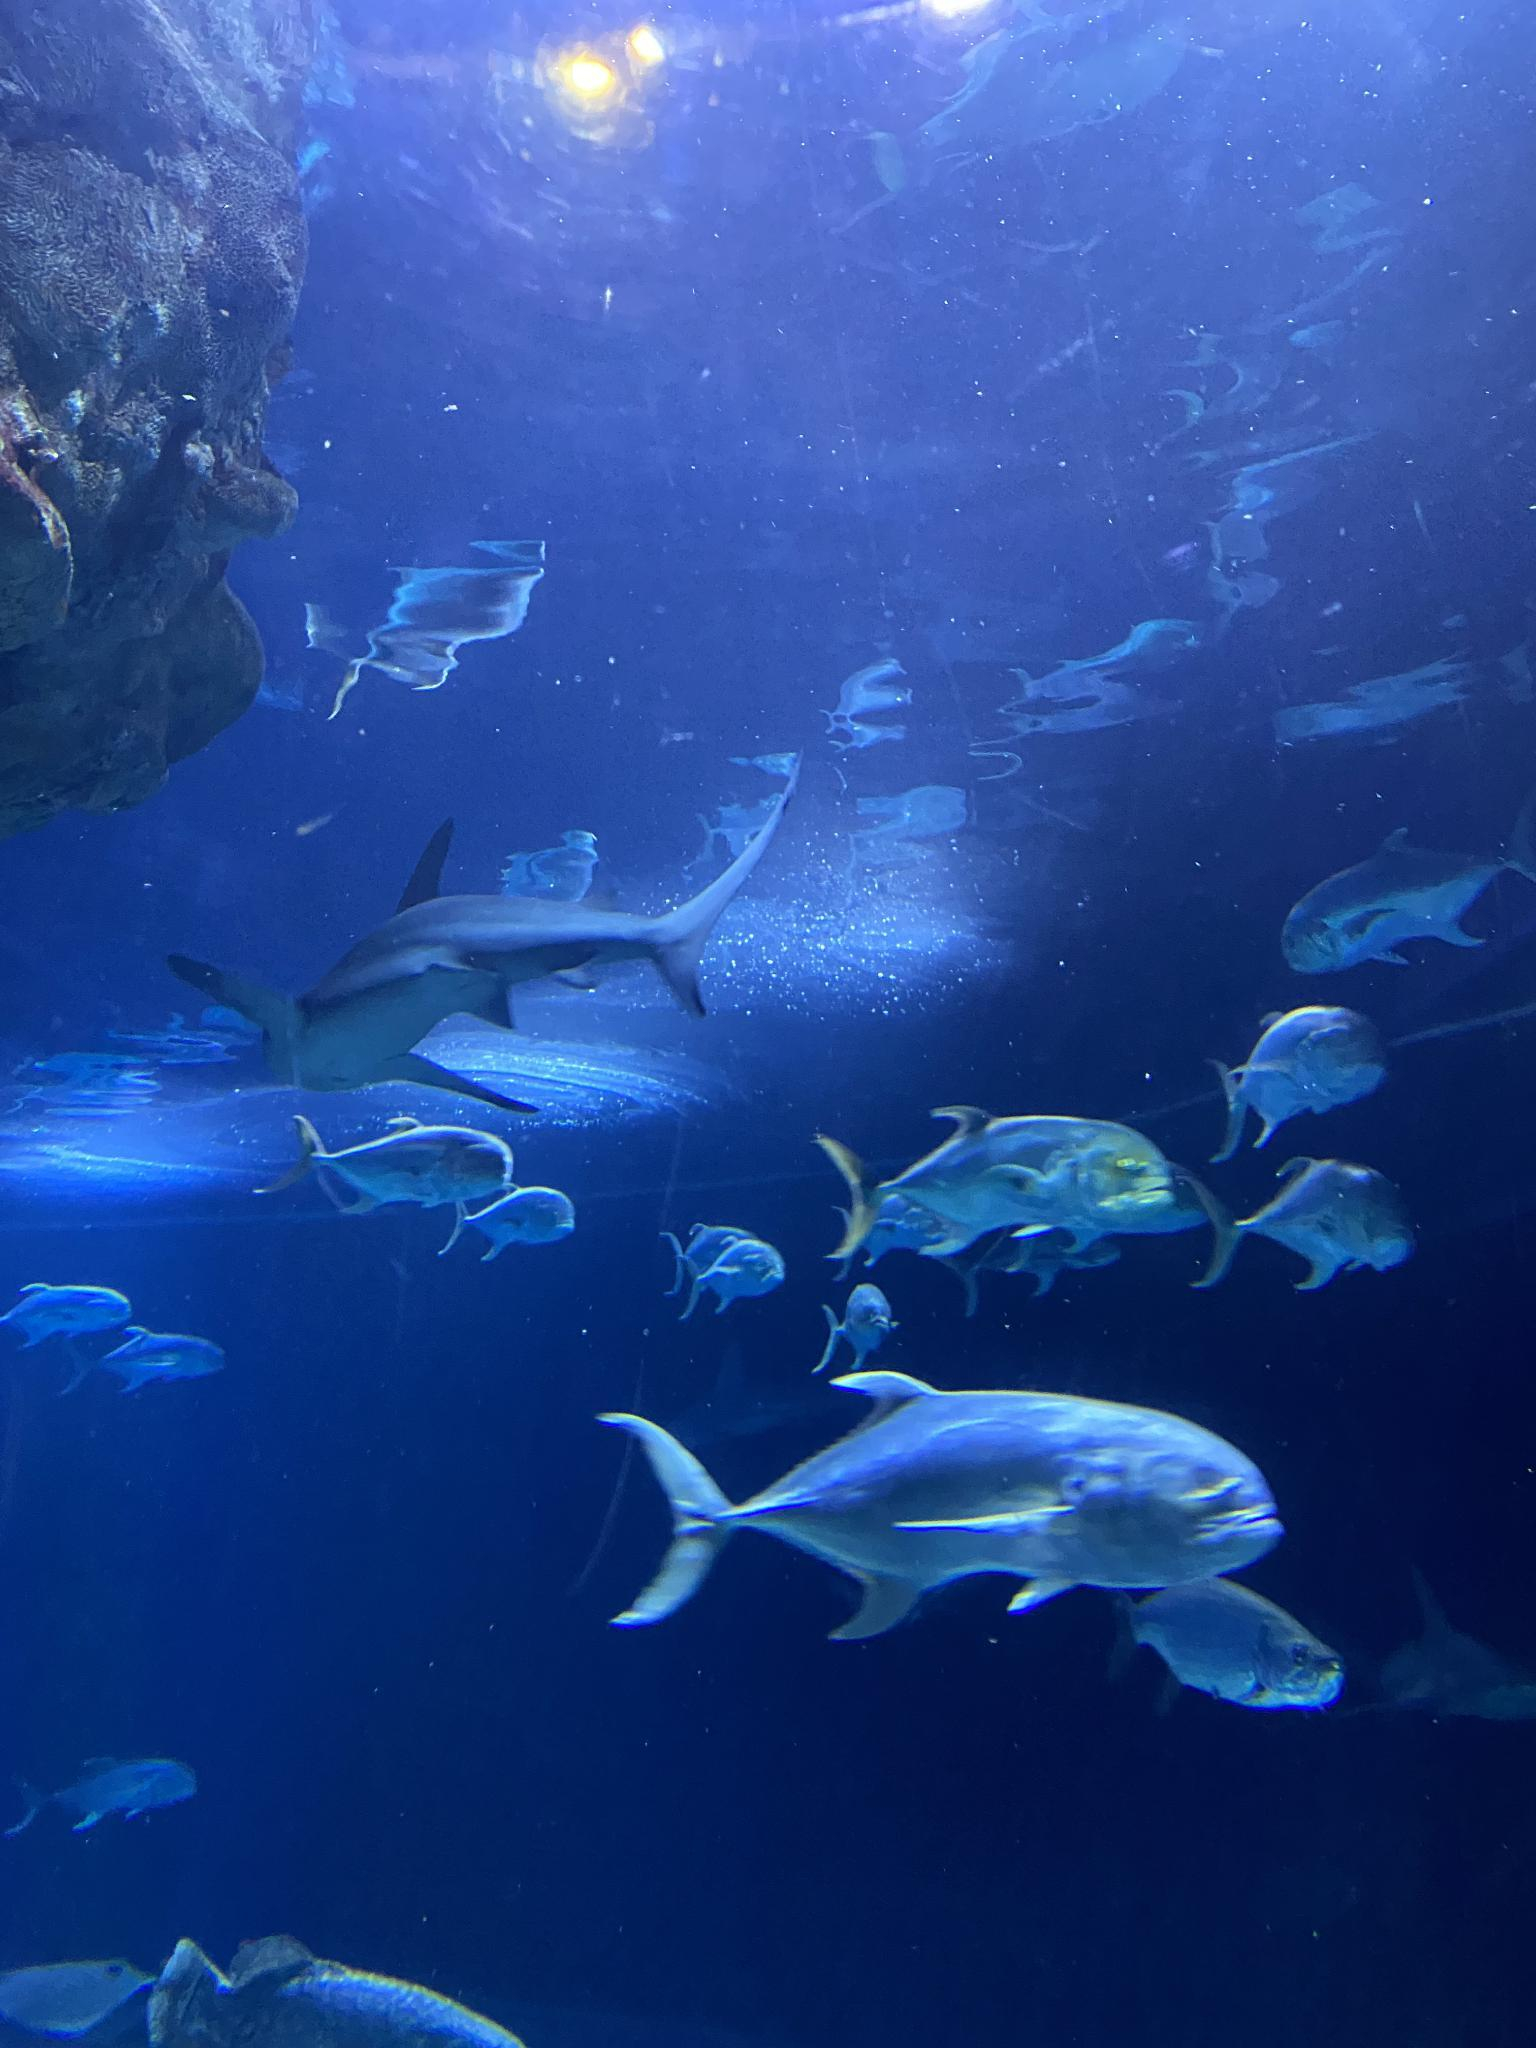fish: (595, 1369, 1284, 1646), (821, 1105, 1162, 1250), (147, 1937, 528, 2046), (1279, 821, 1536, 977), (933, 1166, 1208, 1293), (1102, 1566, 1342, 1709), (1199, 1156, 1405, 1290), (1210, 1009, 1383, 1142), (281, 1114, 508, 1206), (3, 1756, 195, 1842), (670, 1222, 783, 1317), (66, 1321, 218, 1388), (437, 1188, 576, 1256), (0, 1284, 127, 1355), (820, 1284, 891, 1367)
shark: (161, 789, 792, 1113), (1339, 1579, 1536, 1725)
stingray: (0, 1959, 158, 2048)
